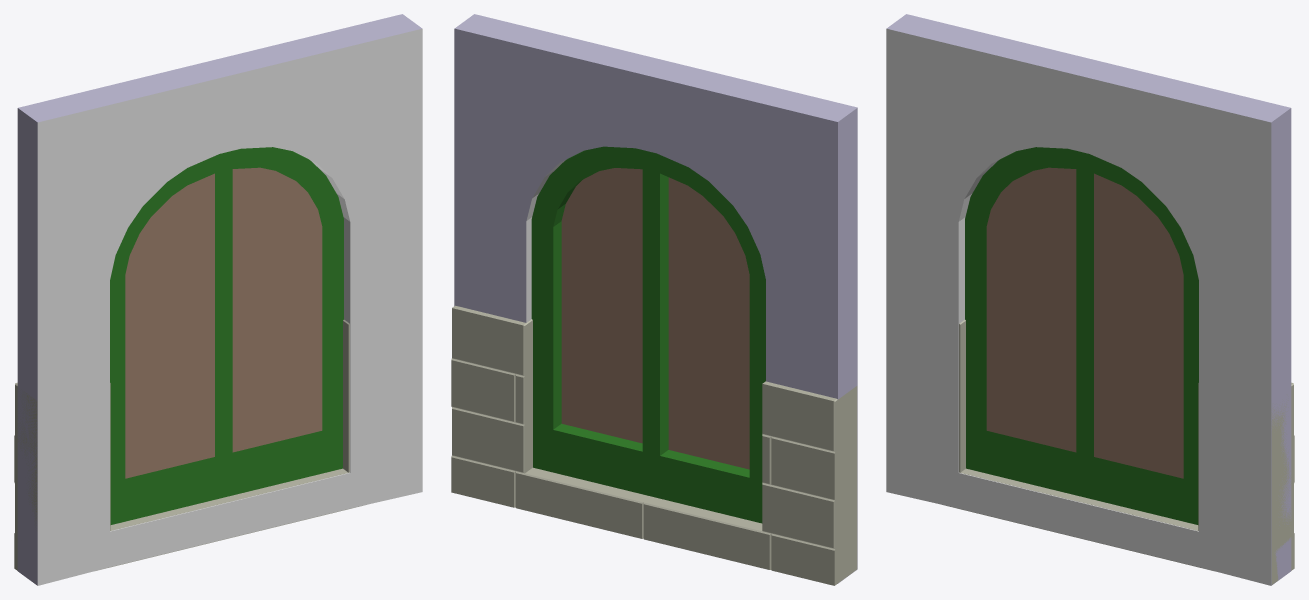
File: Modular Dutch Facade Door.fbx
3 renders of one model, left to right at view 1: azimuth 30°, elevation 25°; view 2: azimuth 150°, elevation 25°; view 3: azimuth 330°, elevation 25°, orthographic.
Visible parts, largest first — view 1: Wall.001, Door, Bricks.002; view 2: Wall.001, Door, Bricks.002; view 3: Wall.001, Door, Bricks.002.
Boxes of the visible parts, x1,y1,x2,y2 form: Wall.001: (17, 14, 422, 585); Door: (110, 147, 343, 524); Bricks.002: (14, 320, 362, 570); Wall.001: (454, 14, 857, 583); Door: (531, 146, 765, 523); Bricks.002: (451, 305, 857, 585); Wall.001: (886, 14, 1291, 585); Door: (965, 147, 1198, 524); Bricks.002: (946, 320, 1294, 584).
Bounding box in the file's own units: 200 × 230 × 21.
